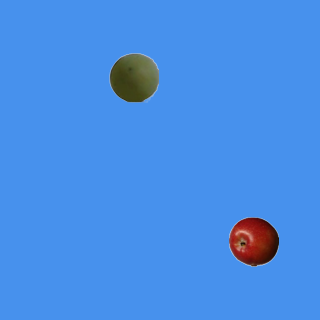Apple Braeburn: (228, 216, 278, 266)
Grape White 4: (108, 52, 158, 102)
